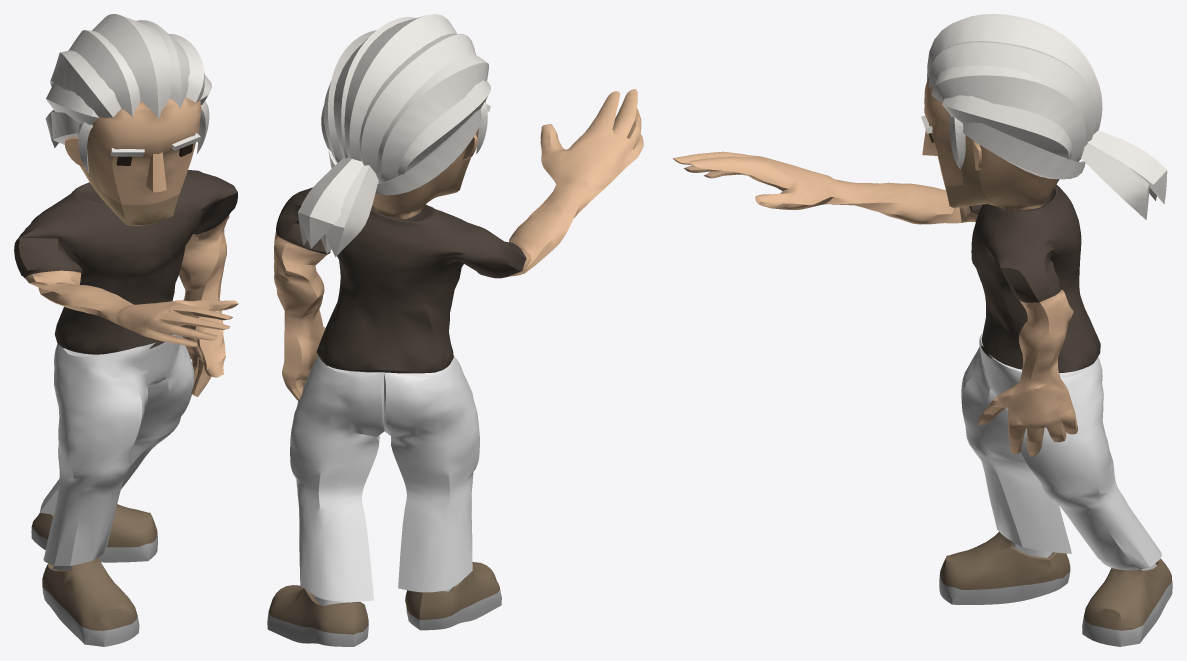
File: av-vovo-radio.glb
3 views of the same model, side by side, from view 1: azimuth 30°, elevation 25°; view 2: azimuth 150°, elevation 25°; view 3: azimuth 270°, elevation 25° (orthographic). The views are drawn at different scales.
Parts seen in each view (by area): view 1: Casual2_Body; view 2: Casual2_Body; view 3: Casual2_Body.
Boxes of the visible parts, left/top/right/bottom form: Casual2_Body: left=14, top=14, right=238, bottom=646; Casual2_Body: left=267, top=14, right=643, bottom=646; Casual2_Body: left=672, top=14, right=1172, bottom=646.
Size of the model in its own units: 0.5551 by 1.37 by 1.04.
Materials: 1 (1 with a texture image).
